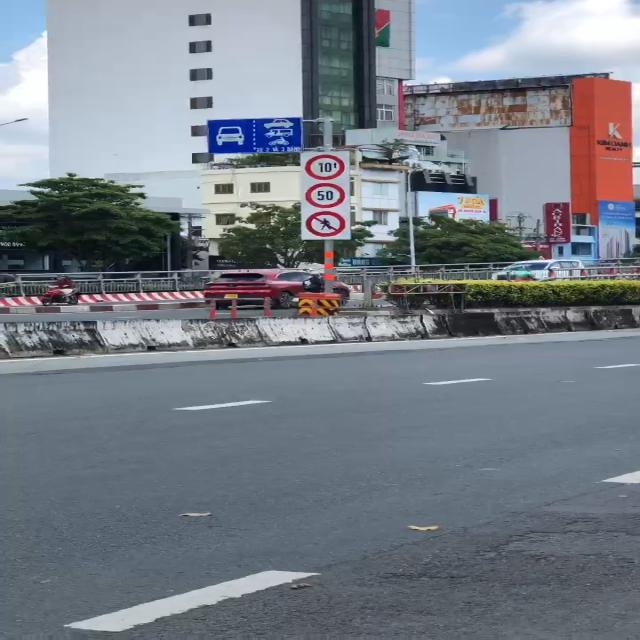Bien bao cam nguoi di bo: (305, 210, 349, 239)
Bien bao toc do toi da cho phep: (302, 182, 349, 210)
